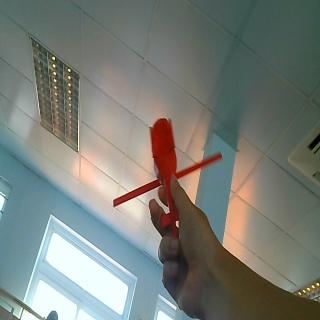Helicopter: (111, 117, 222, 209)
